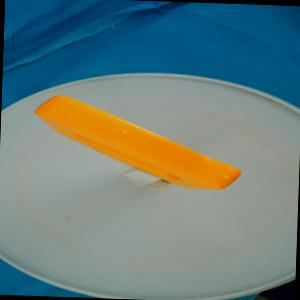serrote: (30, 94, 247, 189)
